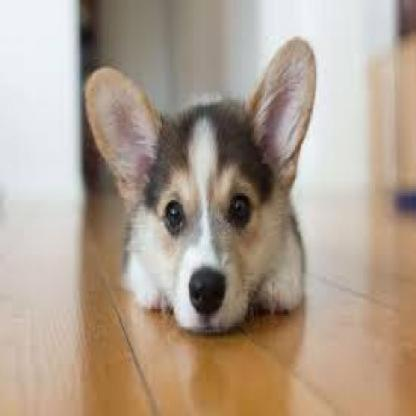dog: (84, 35, 317, 335)
